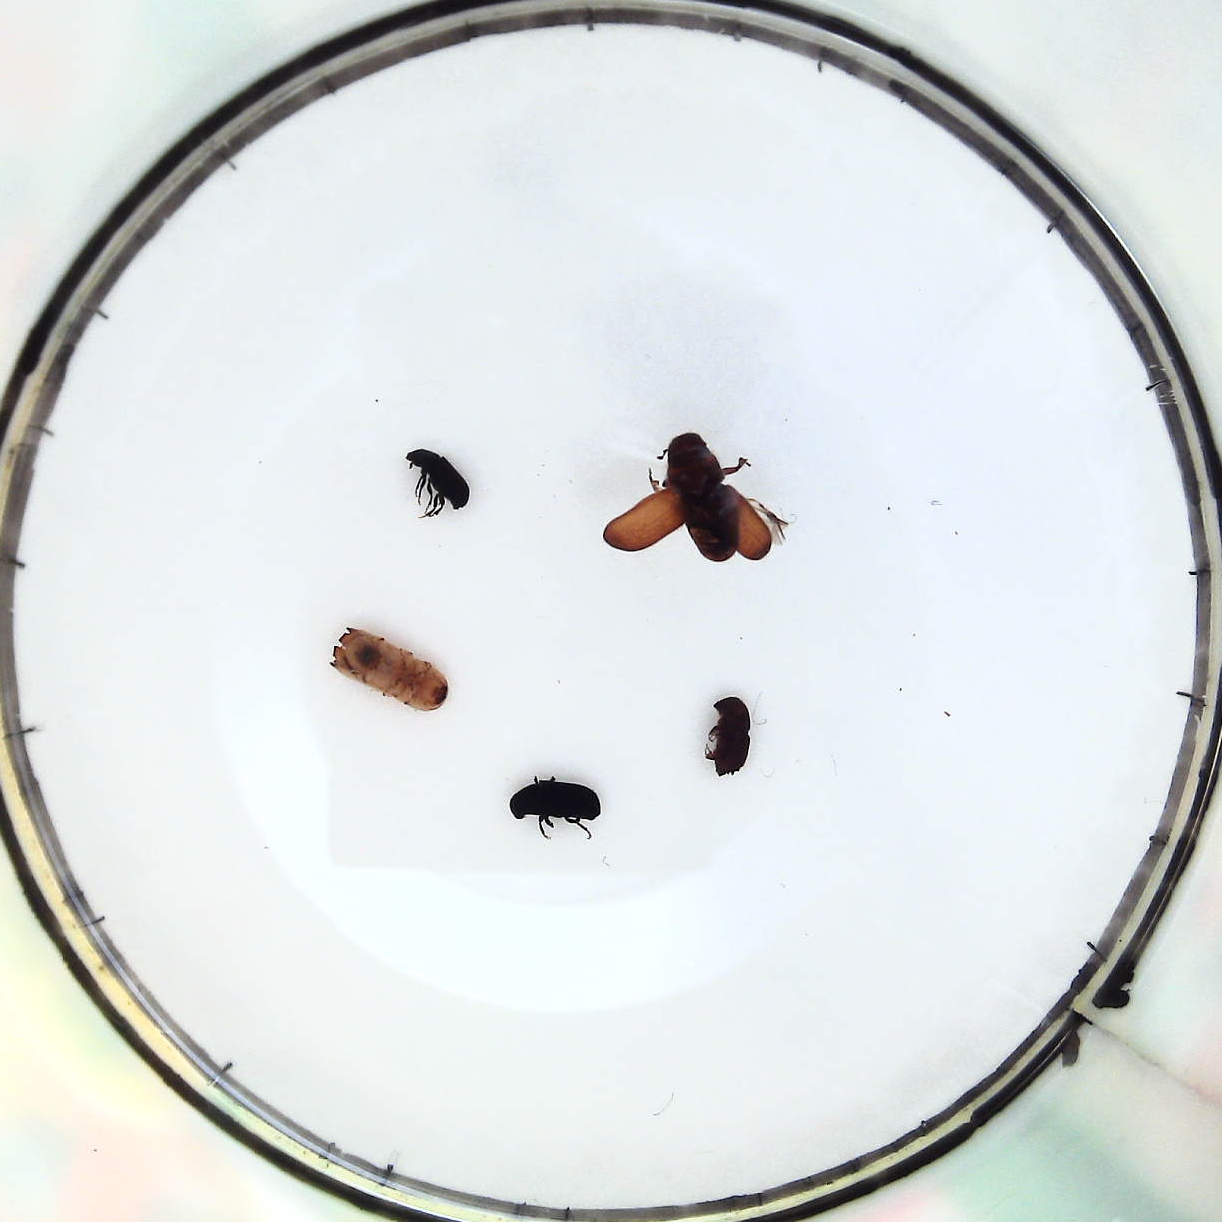Boerner: (323, 626, 450, 715)
Leconte: (598, 429, 789, 563)
Linnaeus: (703, 696, 755, 772)
armandi: (506, 774, 603, 829)
coleoptera: (399, 446, 470, 514)
